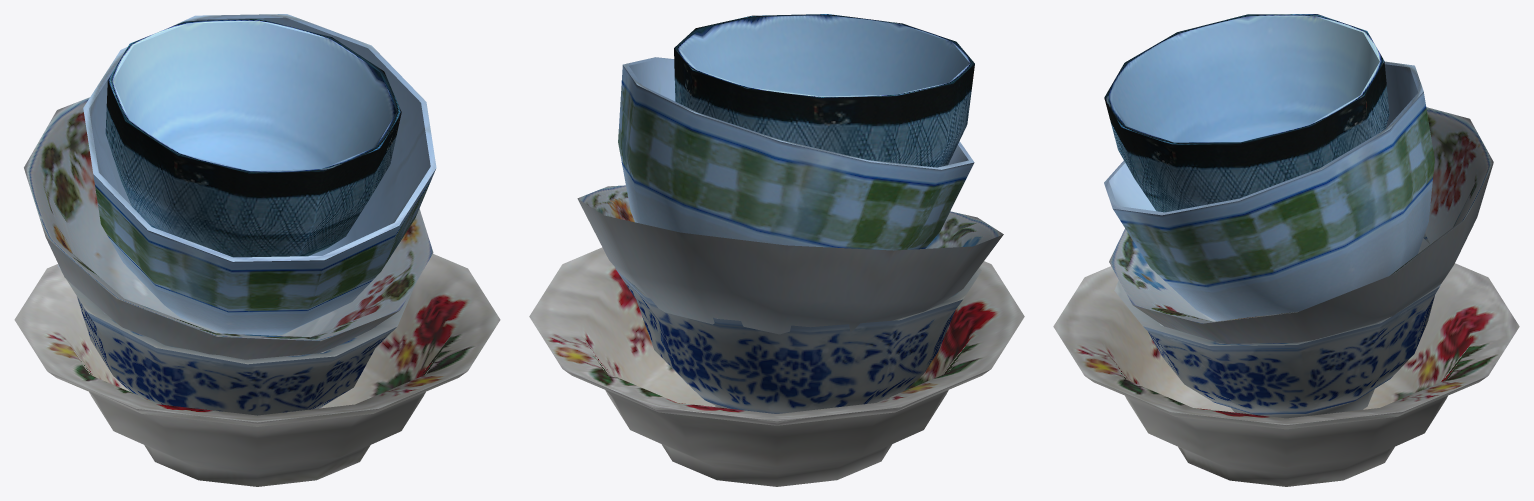
The model's file is stack_bowls-1.FBX.
The picture shows the model from 3 angles, left to right: view 1: azimuth 30°, elevation 25°; view 2: azimuth 150°, elevation 25°; view 3: azimuth 270°, elevation 25°; orthographic projection. The views are drawn at different scales.
Visible parts, largest first — view 1: stack_bowls-1_LOD0; view 2: stack_bowls-1_LOD0; view 3: stack_bowls-1_LOD0.
Part boxes in pixels (bbox=[...]): stack_bowls-1_LOD0: bbox=[14, 14, 500, 486]; stack_bowls-1_LOD0: bbox=[529, 14, 1024, 486]; stack_bowls-1_LOD0: bbox=[1053, 14, 1519, 486].
Size of what is drawn, in the model's own units: 13.82 by 12.03 by 13.82.
